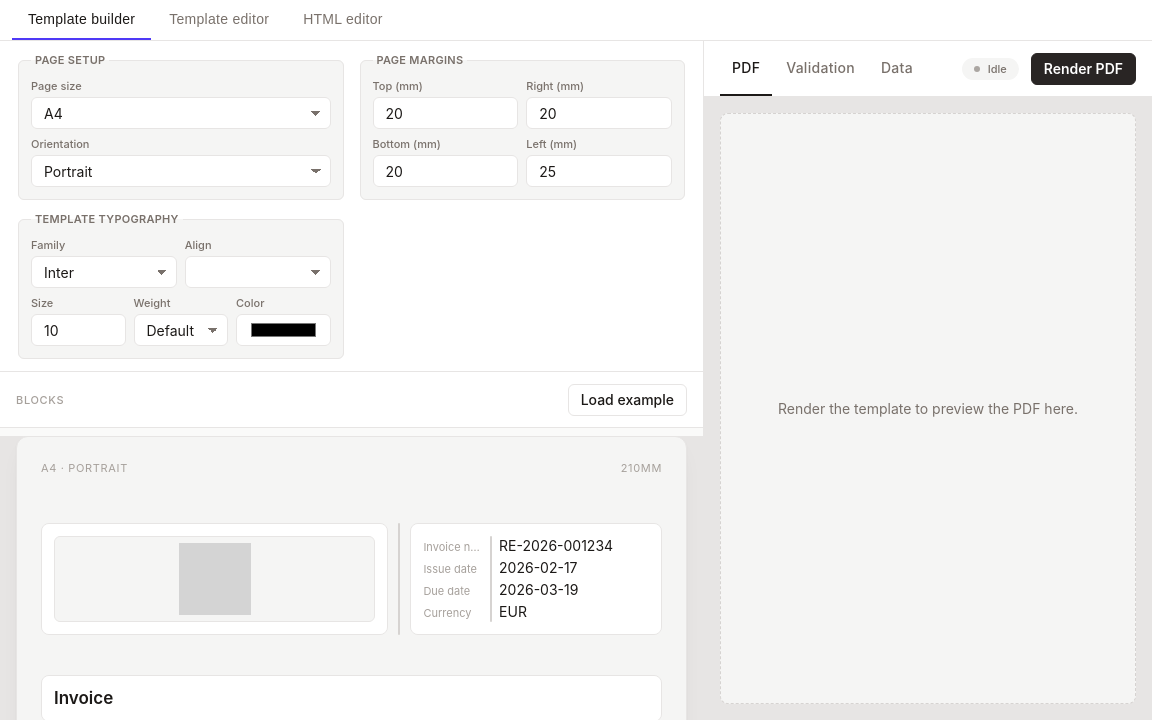
Test: App shell › switches to the JSON editor tab
This screenshot has width=1152, height=720.
Click the tab "Template editor": (219, 20) x1=153 y1=0 x2=285 y2=40
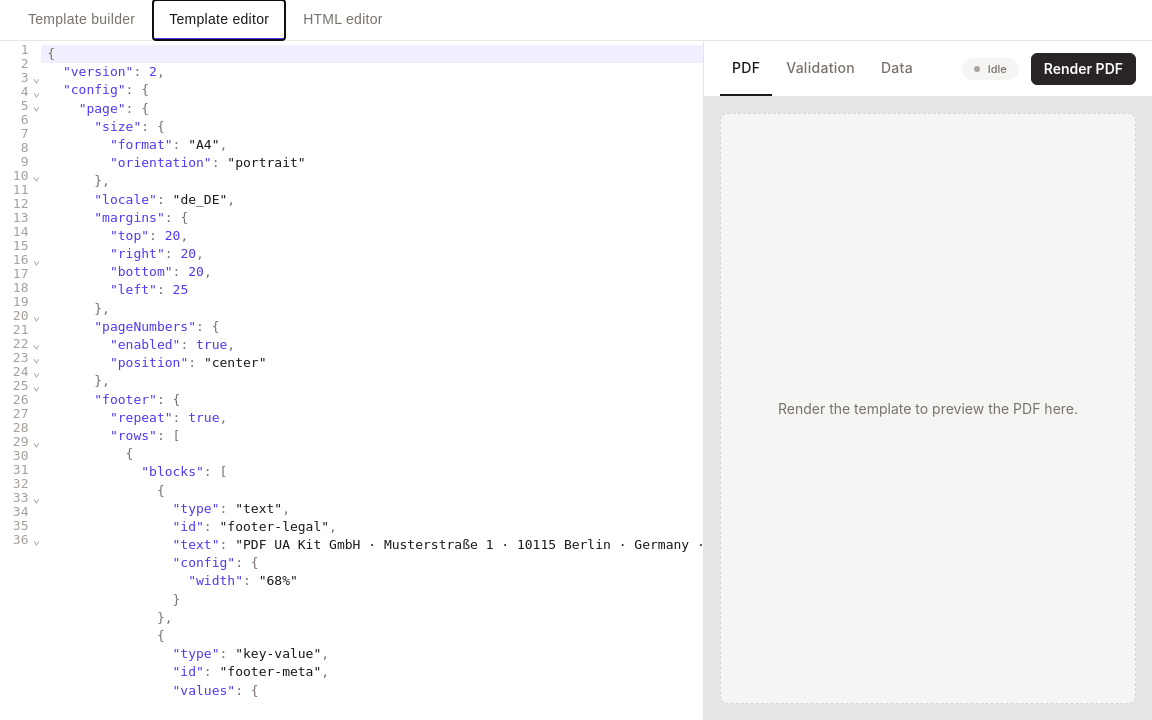
expect the element named "Template JSON editor" is shown: met, box x1=0 y1=41 x2=704 y2=719
